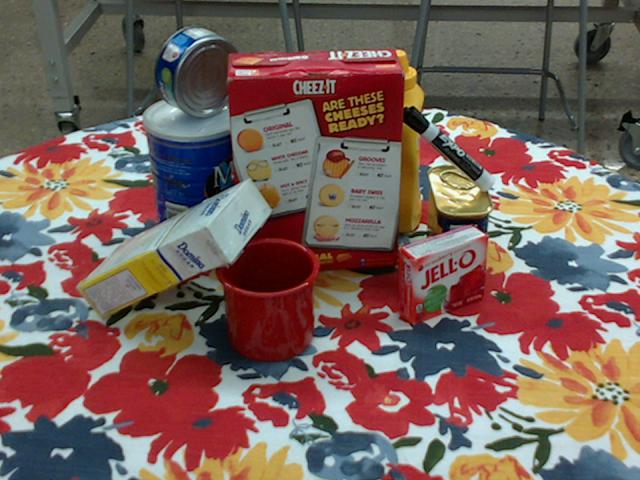cracker_box: (224, 50, 405, 273)
gelatin_box: (397, 224, 488, 325)
large_marker: (401, 106, 495, 191)
master_chef_can: (144, 94, 247, 256)
mug: (215, 236, 321, 361)
mustard_bottle: (369, 51, 424, 234)
potted_meat_can: (426, 165, 493, 283)
sugar_box: (74, 179, 271, 320)
tomato_soup_can: (289, 105, 349, 210)
tuna_fish_can: (154, 26, 240, 117)
